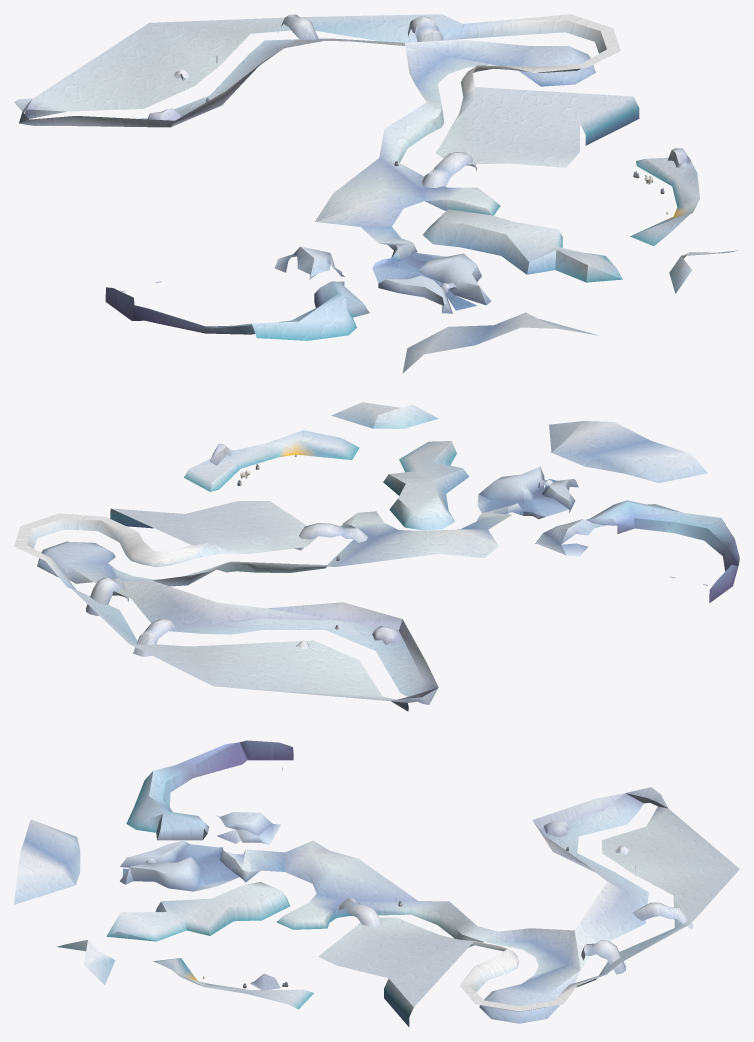
The model's file is object_28_lev2.glb.
3 views of the same model, one above another, from view 1: azimuth 30°, elevation 25°; view 2: azimuth 150°, elevation 25°; view 3: azimuth 270°, elevation 25° (orthographic). The views are drawn at different scales.
Parts seen in each view (by area): view 1: object_28_lev2; view 2: object_28_lev2; view 3: object_28_lev2.
Part boxes in pixels (box(x1,y1,x2,y2)): object_28_lev2: box(14, 14, 737, 373); object_28_lev2: box(14, 402, 739, 711); object_28_lev2: box(14, 740, 739, 1026).
Bounding box in the file's own units: 139 × 11.07 × 156.
Materials: 1 (1 with a texture image).
